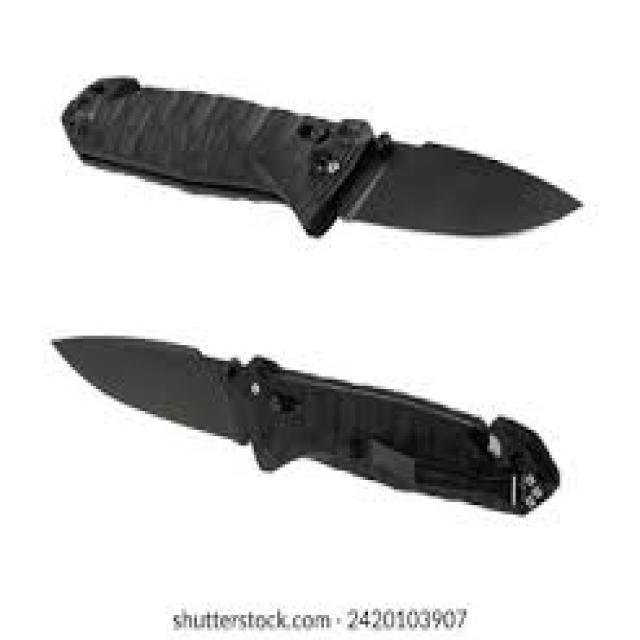Knife: (49, 332, 560, 514), (60, 72, 583, 239)
